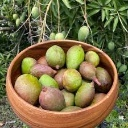mango: (13, 74, 42, 106), (65, 44, 85, 71)
